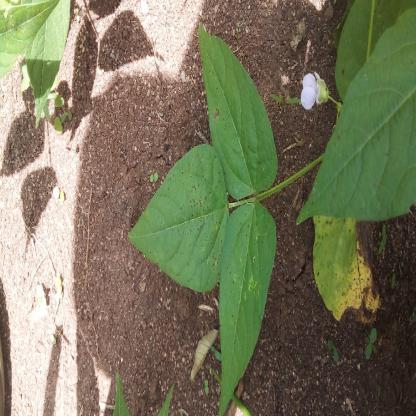Beans_Angular_LeafSpot: (131, 146, 228, 287), (199, 20, 265, 156), (220, 200, 264, 370)
